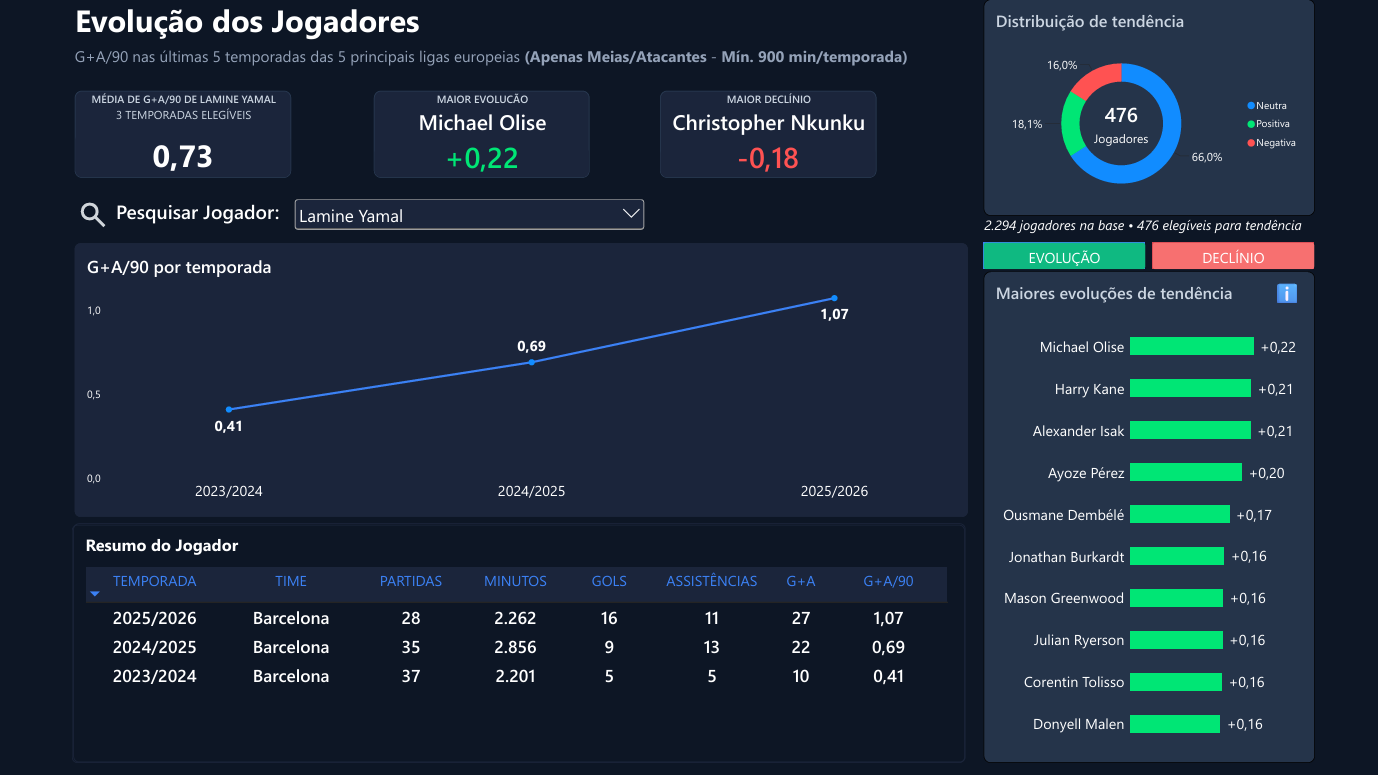

Layout of this report page (visuals, bound fields, positions):
{"tool":"powerbi","page":{"name":"Página 1","canvas":[1920,1080],"ordinal":0},"visuals":[{"type":"textbox","box":[105,-0.6,542.7,64.2],"z":0},{"type":"textbox","box":[105,64.2,1189.1,74.4],"z":1000},{"type":"cardVisual","fields":{"Data":["Métricas.Media_GA90_Dinamica"]},"box":[105,126.9,300.5,121.1],"z":2000},{"type":"cardVisual","title":"MAIOR EVOLUCÃO","fields":{"Data":["Sum(vw_KPI3_MaiorEvolucao.TENDENCIA)"]},"box":[520.9,126.9,300.5,121.1],"z":3000},{"type":"slicer","title":"🔍 Pesquisar Jogador...","fields":{"Values":["vw_DadosJogadorTemporada.JOGADOR"]},"box":[405.6,272.9,496,54],"z":4000},{"type":"lineChart","title":"G+A/90 por temporada","fields":{"Category":["vw_DadosJogadorTemporada.TEMPORADA"],"Y":["Avg(vw_DadosJogadorTemporada.GOLS_ASSISTENCIAS_90)"]},"box":[105,339.3,1241.6,379.3],"z":5000},{"type":"tableEx","title":"Resumo do Jogador","fields":{"Values":["vw_DadosJogadorTemporada.TEMPORADA","vw_DadosJogadorTemporada.TIME","Sum(vw_DadosJogadorTemporada.PARTIDAS)","Sum(vw_DadosJogadorTemporada.MINUTOS)","Sum(vw_DadosJogadorTemporada.GOLS)","Sum(vw_DadosJogadorTemporada.ASSISTENCIAS)","Sum(vw_DadosJogadorTemporada.GOLS_ASSISTENCIAS)","Sum(vw_DadosJogadorTemporada.GOLS_ASSISTENCIAS_90)"]},"box":[102.7,728.4,1241.8,332.1],"z":6000},{"type":"clusteredBarChart","title":"Maiores evoluções de tendência","fields":{"Category":["vw_RankingTendenciaJogadores.JOGADOR"],"Y":["Sum(vw_RankingTendenciaJogadores.TENDENCIA)"]},"box":[1368.5,377.9,461,682.8],"z":7000},{"type":"textbox","box":[155.4,275.7,250,44.6],"z":8000},{"type":"cardVisual","title":"MAIOR DECLÍNIO","fields":{"Data":["Sum(vw_KPI2_MaiorDeclinio.TENDENCIA)"]},"box":[919.1,126.9,300.5,121.1],"z":9000},{"type":"donutChart","title":"Distribuição de tendência","fields":{"Category":["vw_KPI4_PercentualTendencias.CLASS_TENDENCIA"],"Y":["Sum(vw_KPI4_PercentualTendencias.PERCENTUAL)"]},"box":[1368.5,0,461,300.5],"z":10000},{"type":"actionButton","title":"EVOLUÇÃO","box":[1368.6,338.1,225.4,37],"z":12000},{"type":"actionButton","title":"DECLÍNIO","box":[1604,338.1,225.4,37],"z":13000},{"type":"cardVisual","title":"Selecion","fields":{"Data":["vw_DadosJogadorTemporada.Mensagem Ocultar Tabela"]},"box":[101.4,729.7,1241.7,331.6],"z":14000},{"type":"textbox","box":[1370,300.5,459.6,39.4],"z":15000},{"type":"cardVisual","title":"Selecion","fields":{"Data":["vw_DadosJogadorTemporada.Mensagem Ocultar Tabela"]},"box":[105.4,339.2,1241.6,379.3],"z":16000},{"type":"textbox","box":[1771.9,378.3,44.6,46.4],"z":17000},{"type":"cardVisual","fields":{"Data":["vw_DadosJogadorTemporada.Icone_Info"]},"box":[1771.9,387.2,35.7,37.5],"z":18000},{"type":"image","box":[105.4,277,50,44.6],"z":19000}]}

Visuals, with their boxes in screenshot pixels (x1, y1, x2, y2), scaled from the page's 1920x1080 canvas onto the 1378x775 screenshot:
textbox: bbox(75, 0, 465, 46)
textbox: bbox(75, 46, 929, 99)
cardVisual - Métricas.Media_GA90_Dinamica: bbox(75, 91, 291, 178)
"MAIOR EVOLUCÃO" cardVisual: bbox(374, 91, 590, 178)
"🔍 Pesquisar Jogador..." slicer: bbox(291, 196, 647, 235)
"G+A/90 por temporada" lineChart: bbox(75, 243, 966, 516)
"Resumo do Jogador" tableEx: bbox(74, 523, 965, 761)
"Maiores evoluções de tendência" clusteredBarChart: bbox(982, 271, 1313, 761)
textbox: bbox(112, 198, 291, 230)
"MAIOR DECLÍNIO" cardVisual: bbox(660, 91, 875, 178)
"Distribuição de tendência" donutChart: bbox(982, 0, 1313, 216)
"EVOLUÇÃO" actionButton: bbox(982, 243, 1144, 269)
"DECLÍNIO" actionButton: bbox(1151, 243, 1313, 269)
"Selecion" cardVisual: bbox(73, 524, 964, 762)
textbox: bbox(983, 216, 1313, 244)
"Selecion" cardVisual: bbox(76, 243, 967, 516)
textbox: bbox(1272, 271, 1304, 305)
cardVisual - vw_DadosJogadorTemporada.Icone_Info: bbox(1272, 278, 1297, 305)
image: bbox(76, 199, 112, 231)
